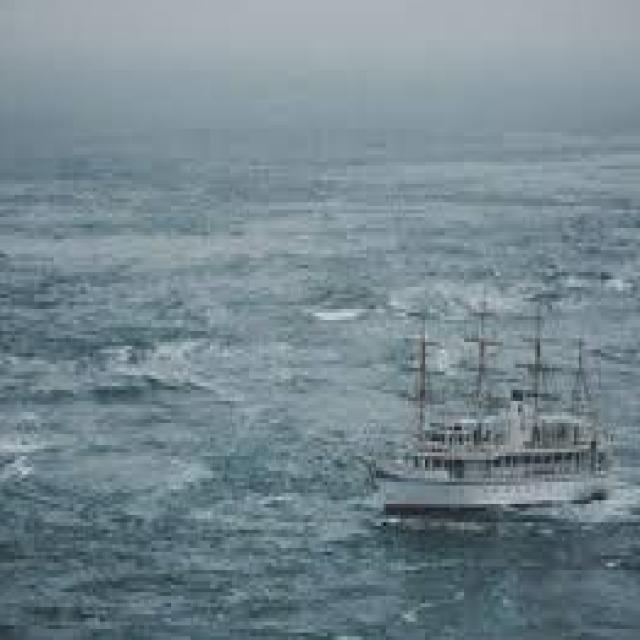fishing boat: (354, 273, 629, 518)
